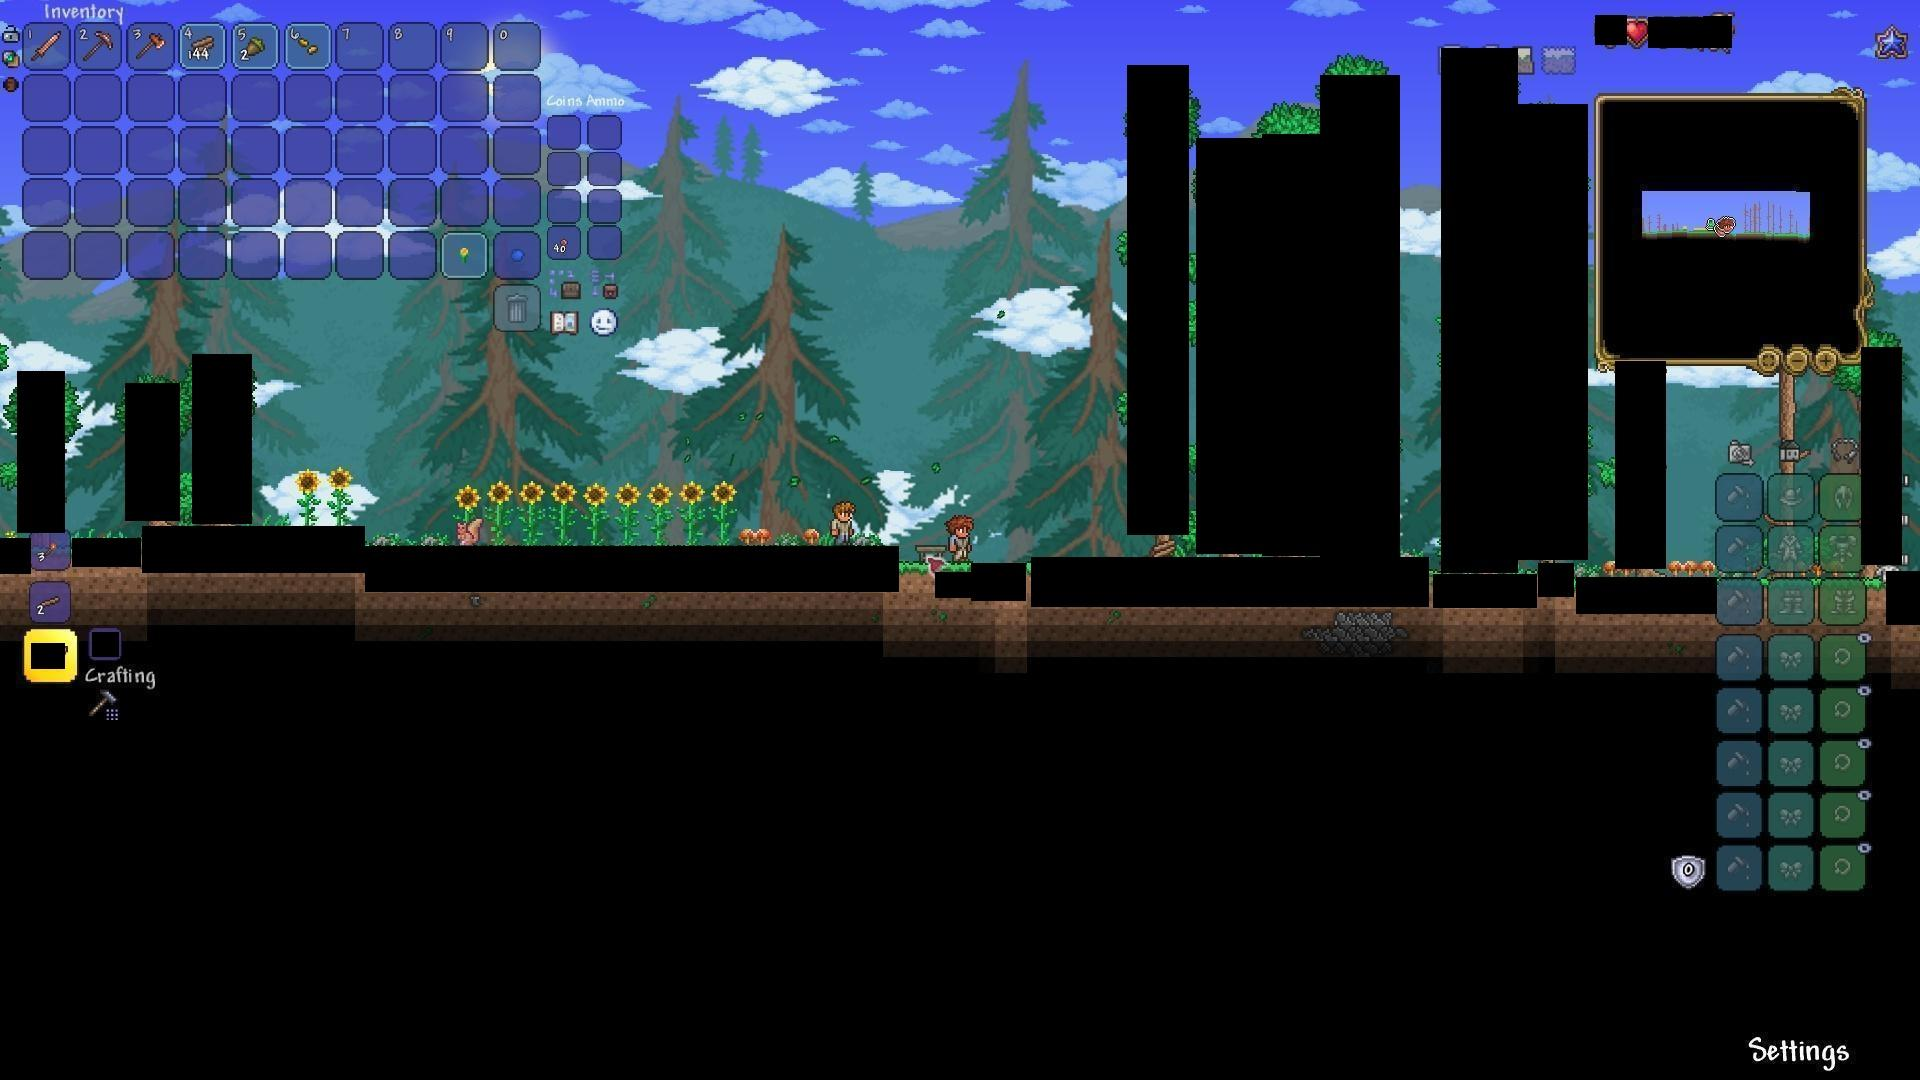heart: (1625, 17, 1651, 46)
wood: (1153, 537, 1184, 567), (187, 29, 219, 59)
workbench: (909, 538, 945, 563)
